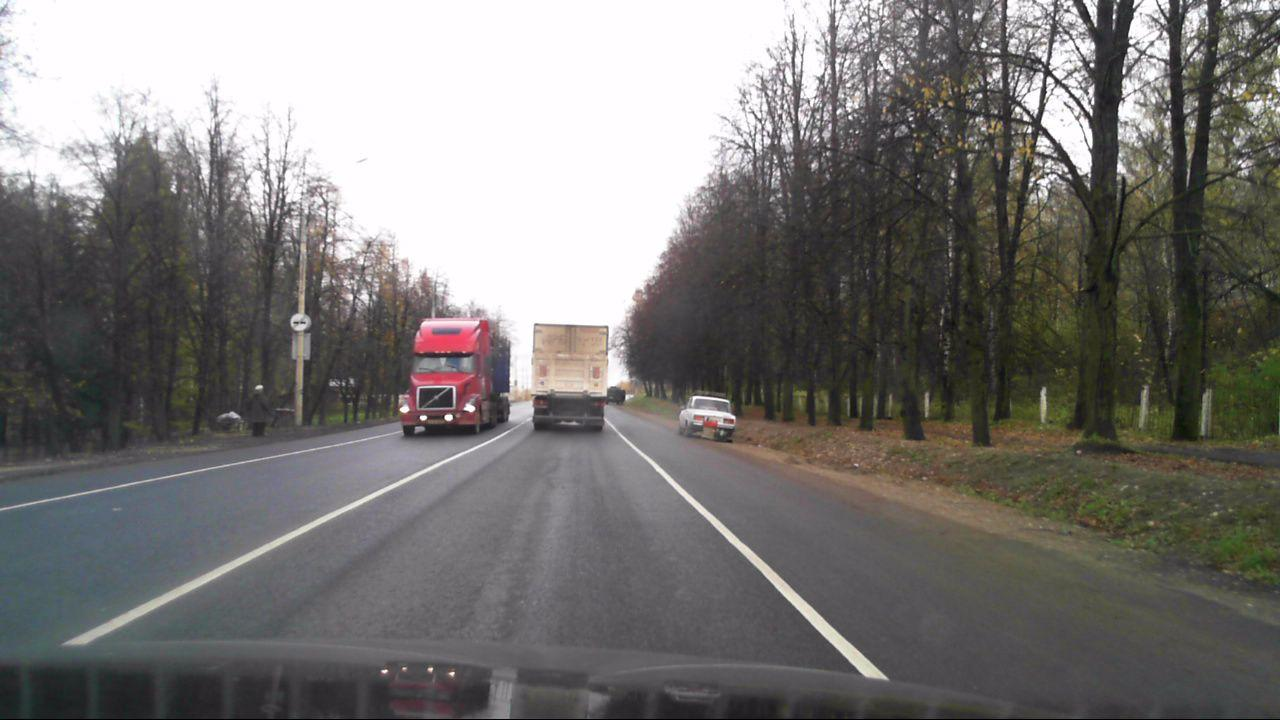3_31: (290, 313, 308, 331)
